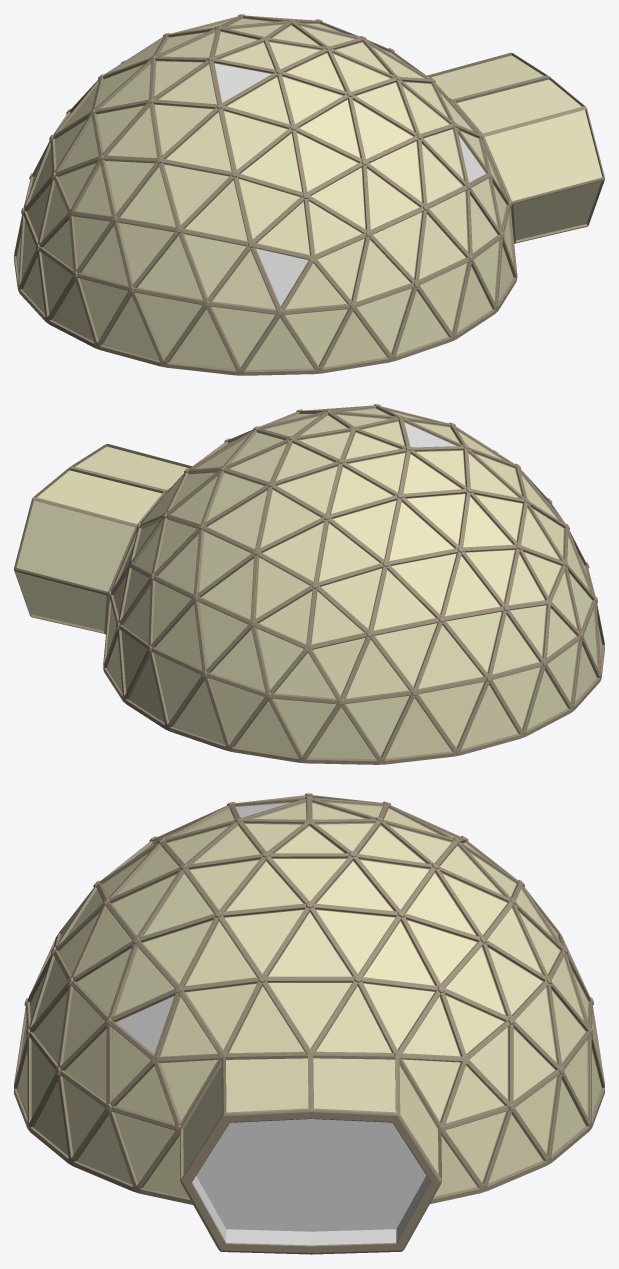
Rendered from Dome_small_1_entrance.fbx.
3 renders of one model, top to bottom at view 1: azimuth 30°, elevation 25°; view 2: azimuth 150°, elevation 25°; view 3: azimuth 270°, elevation 25°, orthographic. The views are drawn at different scales.
Parts seen in each view (by area): view 1: Dome_1, Dome_1_shield; view 2: Dome_1, Dome_1_shield; view 3: Dome_1, Dome_1_shield.
Part boxes in pixels (x1=…): Dome_1: x1=14, y1=14, x2=517, y2=375; Dome_1_shield: x1=427, y1=52, x2=604, y2=243; Dome_1: x1=103, y1=404, x2=604, y2=764; Dome_1_shield: x1=14, y1=444, x2=191, y2=634; Dome_1: x1=14, y1=793, x2=604, y2=1204; Dome_1_shield: x1=179, y1=1054, x2=441, y2=1254.
Size of the model in its own units: 230 by 101 by 199.
